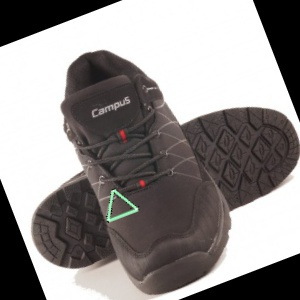triangle: (103, 186, 142, 224)
